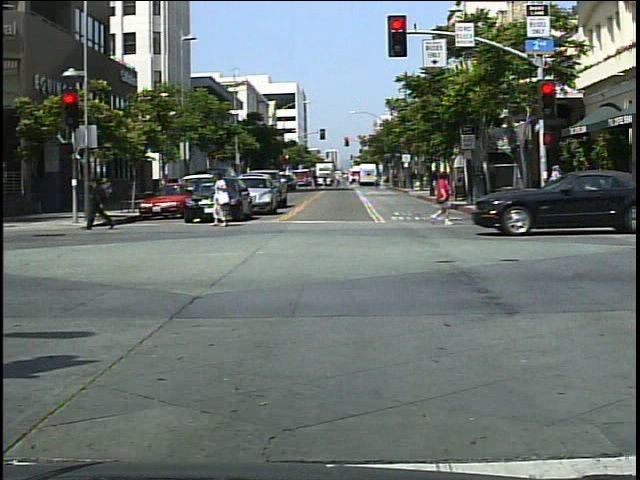person: (210, 167, 241, 231), (86, 169, 115, 234), (429, 168, 458, 222), (546, 160, 569, 211)
